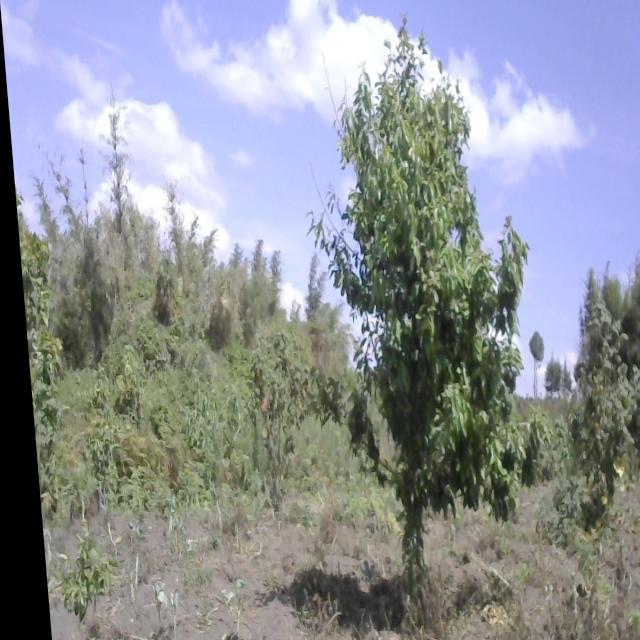Hass Avocado: (281, 22, 572, 631)
